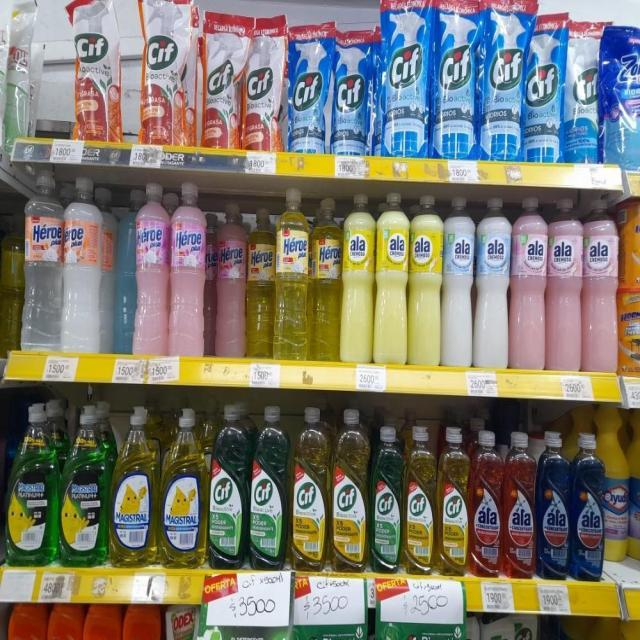ala_conc_azul: (571, 428, 605, 581), (537, 428, 570, 580)
ala_conc_rojo: (470, 428, 503, 577), (504, 430, 536, 580)
ala_crem_amarillo: (375, 191, 408, 366), (409, 194, 442, 368), (342, 193, 374, 364)
ala_crem_blanco: (475, 196, 510, 370), (442, 196, 474, 370)
ala_crem_rosado: (582, 198, 618, 374), (547, 197, 582, 373), (511, 196, 546, 371)
cif_conc_bot_amarilla: (290, 404, 330, 572), (331, 406, 369, 573), (404, 424, 436, 576), (437, 426, 469, 575)
cif_conc_botella_verde: (209, 402, 248, 570), (250, 404, 288, 570), (370, 424, 402, 574)
heroe: (170, 181, 208, 356), (275, 188, 309, 362), (310, 195, 341, 363), (214, 200, 246, 358), (247, 203, 274, 359)
magistral_con_amarillo: (111, 404, 158, 568), (160, 406, 207, 570)
